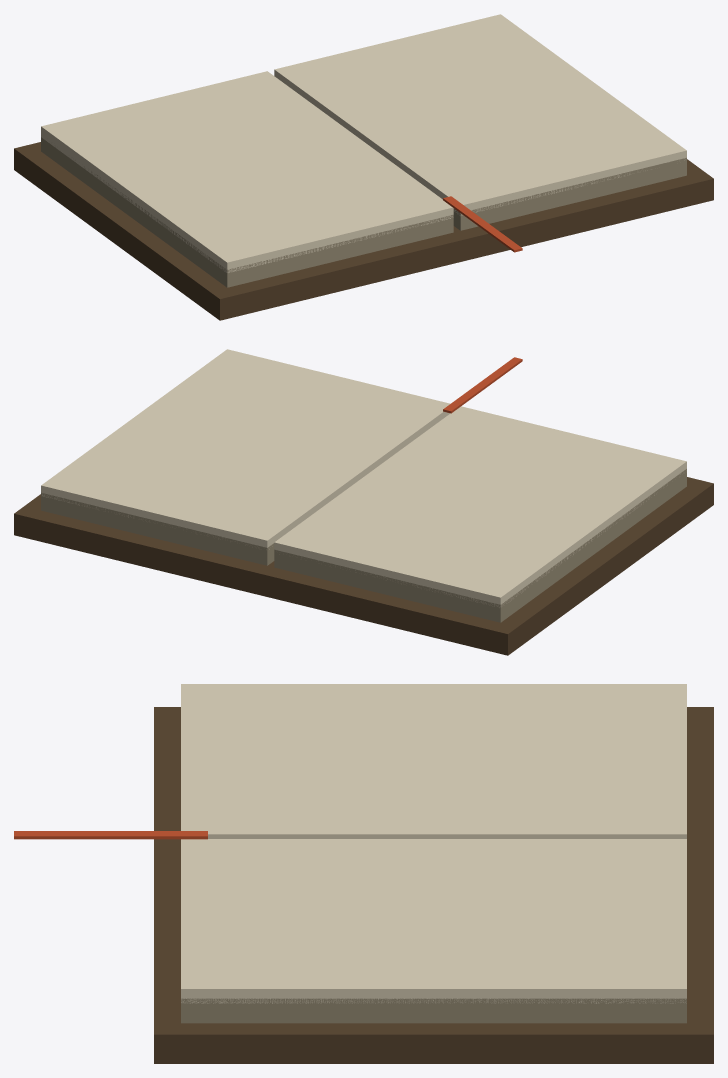
File: LairLedger.fbx
The picture shows the model from 3 angles, top to bottom: view 1: azimuth 30°, elevation 25°; view 2: azimuth 150°, elevation 25°; view 3: azimuth 270°, elevation 25°; orthographic projection. The views are drawn at different scales.
Visible parts, largest first — view 1: LairLedger; view 2: LairLedger; view 3: LairLedger.
Part boxes in pixels (left/top/right/bottom): LairLedger: left=14, top=14, right=713, bottom=320; LairLedger: left=14, top=349, right=713, bottom=655; LairLedger: left=14, top=684, right=713, bottom=1063.
Bounding box in the file's own units: 72 × 6.8 × 65.
Materials: 4 (4 with a texture image).
